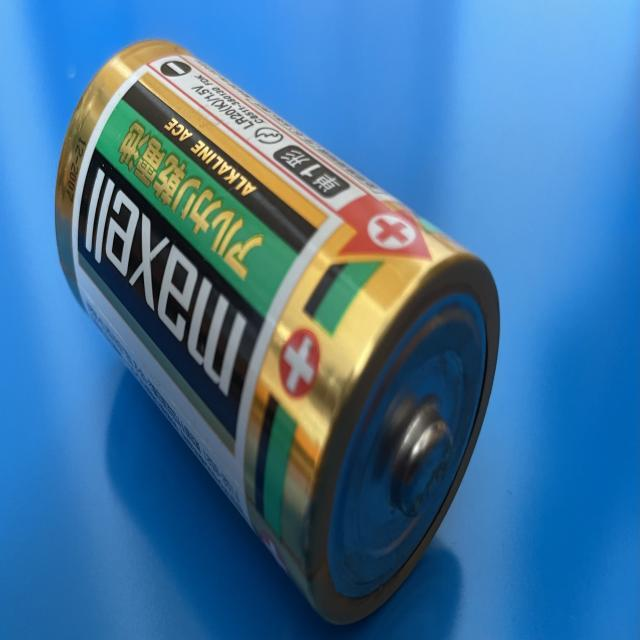hazardous waste: (54, 36, 504, 630)
